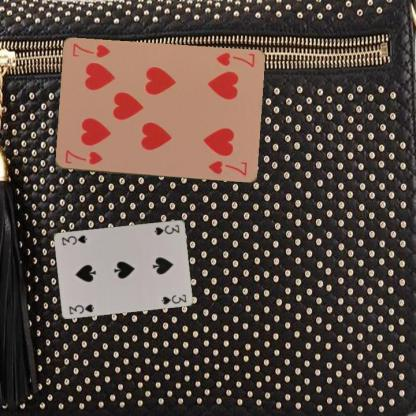3s: (66, 301, 96, 316), (152, 222, 181, 236)
7h: (62, 147, 103, 166), (213, 50, 256, 68)
